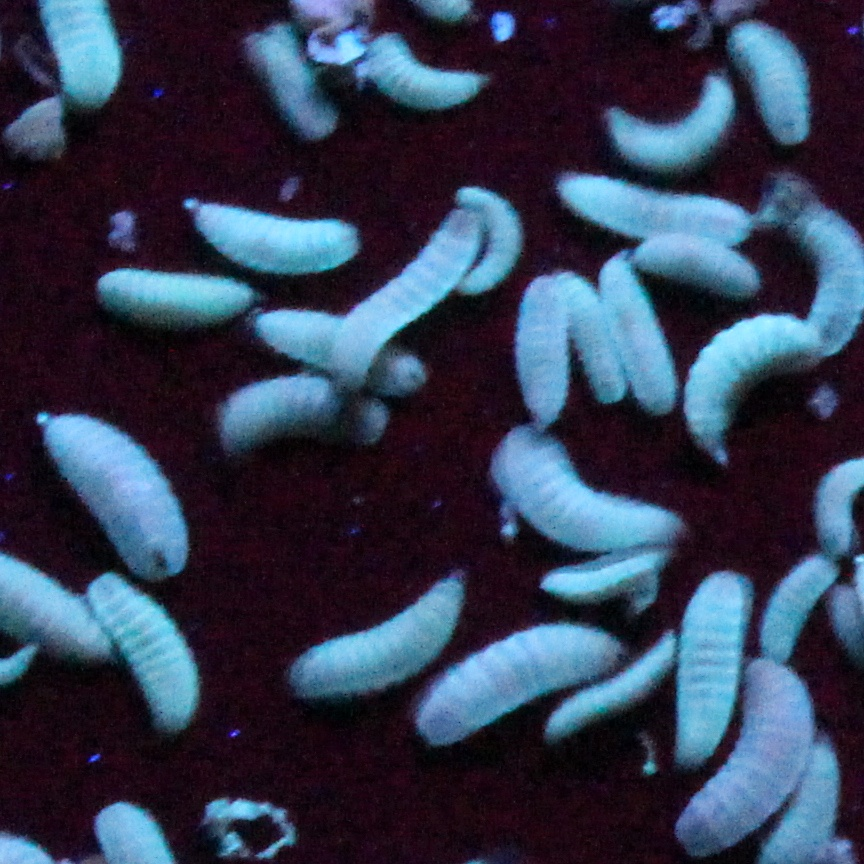larve: (31, 406, 192, 582), (680, 668, 824, 851), (420, 627, 629, 739), (337, 219, 463, 394), (490, 435, 682, 545), (298, 570, 467, 690), (682, 325, 814, 459), (96, 580, 204, 739), (551, 172, 755, 243), (551, 631, 678, 741), (678, 572, 751, 759), (251, 312, 422, 382), (602, 264, 673, 410), (204, 212, 363, 276), (614, 76, 728, 164), (247, 17, 329, 139), (726, 15, 808, 135), (357, 35, 484, 110), (561, 274, 628, 412), (94, 266, 249, 323), (453, 184, 526, 300), (220, 382, 331, 455), (633, 233, 751, 292), (763, 553, 829, 651), (518, 274, 557, 425), (537, 553, 665, 590)
